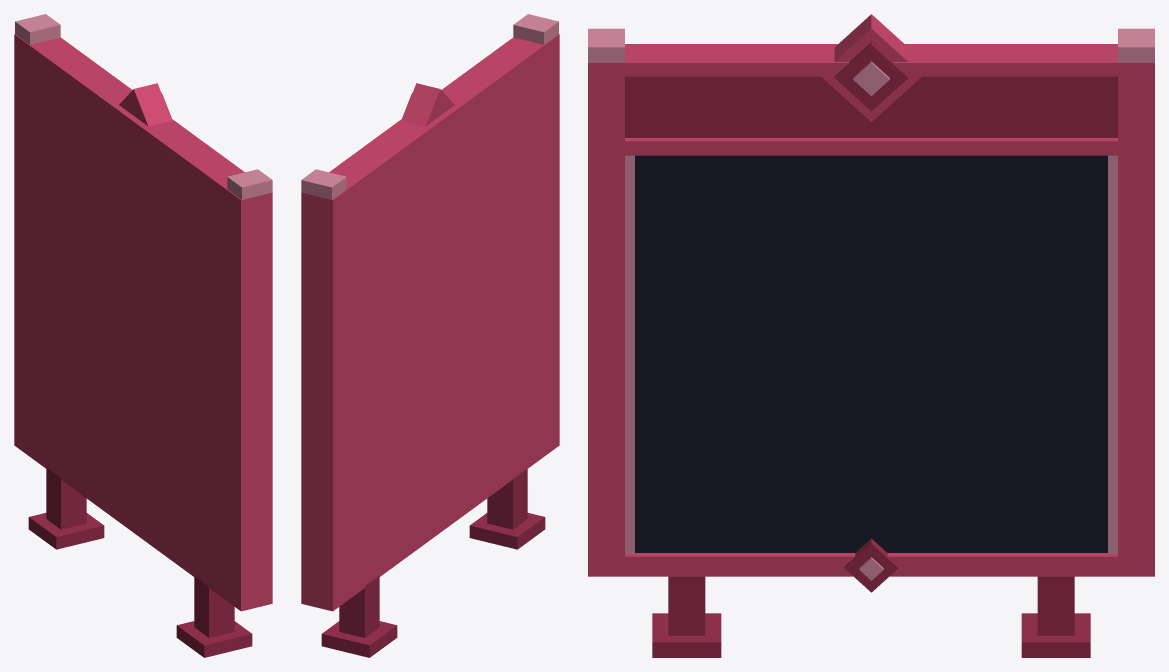
The model's file is leaderboard_pink.glb.
3 renders of one model, left to right at view 1: azimuth 30°, elevation 25°; view 2: azimuth 150°, elevation 25°; view 3: azimuth 270°, elevation 25°, orthographic. The views are drawn at different scales.
Visible parts, largest first — view 1: leaderboard_pink; view 2: leaderboard_pink; view 3: leaderboard_pink.
Part boxes in pixels (bbox=[...]): leaderboard_pink: bbox=[14, 14, 272, 657]; leaderboard_pink: bbox=[301, 14, 559, 657]; leaderboard_pink: bbox=[588, 14, 1154, 657].
Size of the model in its own units: 0.56 by 5.6 by 4.6.
